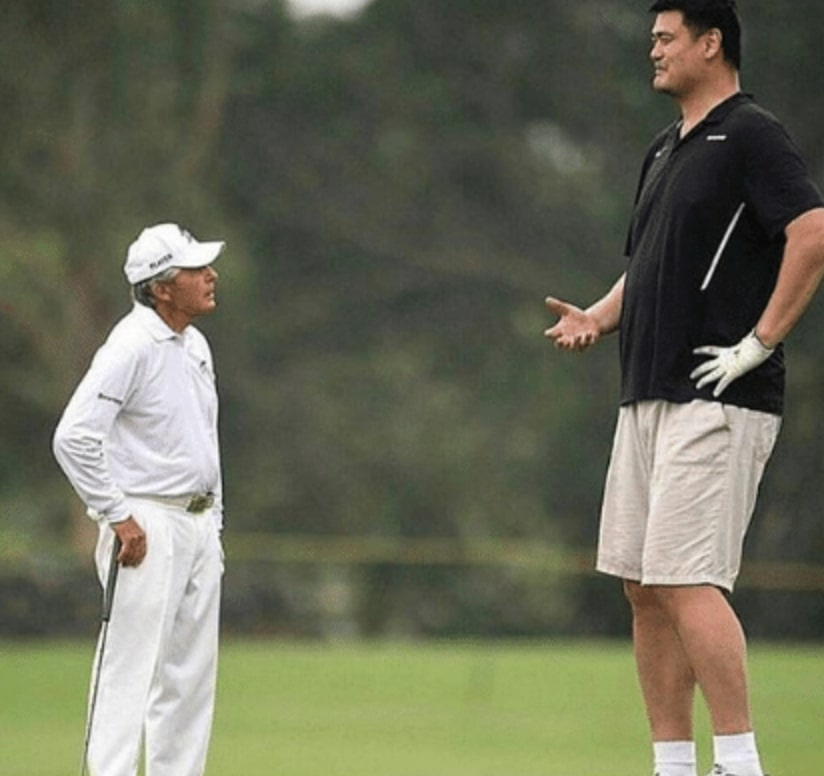Good: (43, 1, 824, 766)
